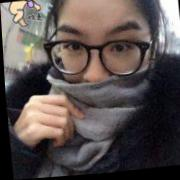WRONG: (54, 1, 158, 123)
